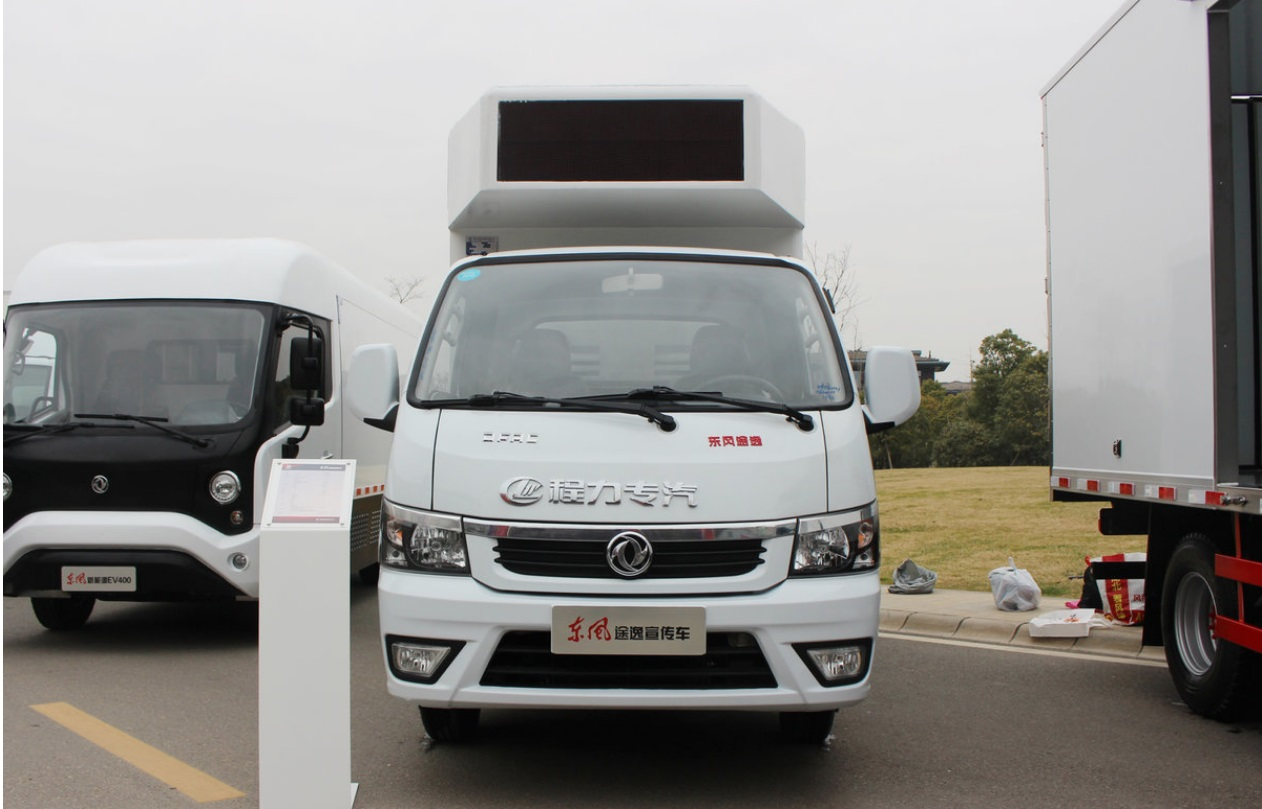truck: (343, 88, 923, 751)
